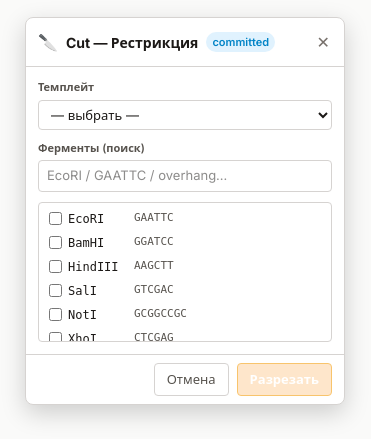
Test: K7 — CutOpPopup › search filters enzyme list by name
Check: the checkbox with test id "cut-op-enzyme-EcoRI" is shown, box 49,212 -> 62,225
Check: the checkbox with test id "cut-op-enzyme-BamHI" is shown, box 49,236 -> 62,249
Search "EcoRI".
Type "EcoRI" into the field with test id "cut-op-search" at (185,176), box 38,160 -> 332,192
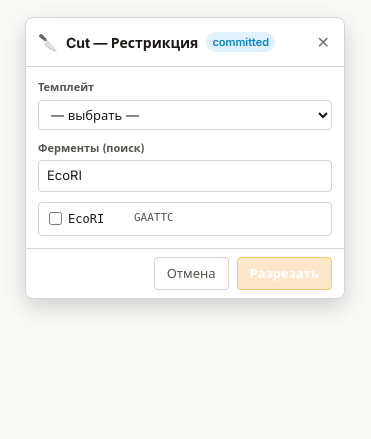
Check: the checkbox with test id "cut-op-enzyme-EcoRI" is shown, box 49,212 -> 62,225
Check: the checkbox with test id "cut-op-enzyme-BamHI" is gone
